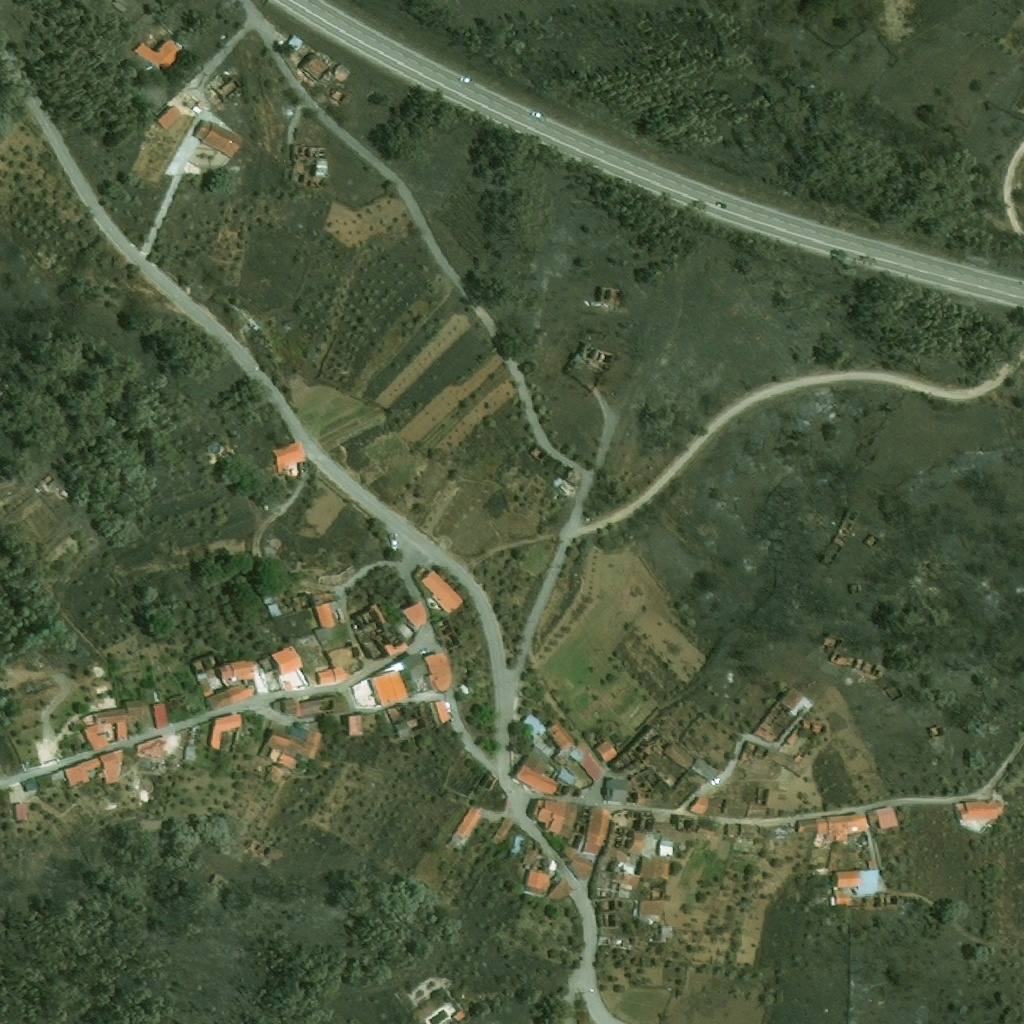0 no-damage: (515, 743, 585, 798), (82, 700, 143, 751), (263, 721, 324, 771), (525, 798, 578, 840), (317, 641, 365, 684), (132, 34, 184, 73), (421, 569, 465, 614), (193, 117, 241, 158), (815, 812, 868, 843), (832, 866, 879, 899), (446, 806, 481, 849), (204, 682, 255, 711), (368, 668, 409, 704), (568, 743, 604, 781), (310, 599, 340, 643), (135, 734, 170, 771), (207, 713, 242, 750), (63, 756, 102, 789), (423, 648, 451, 691), (270, 644, 304, 676), (98, 746, 124, 785), (632, 856, 671, 882), (270, 440, 305, 468), (401, 651, 430, 684), (546, 718, 576, 749), (954, 801, 1003, 819), (214, 659, 254, 681), (866, 804, 900, 829), (545, 877, 573, 904), (401, 599, 426, 628), (520, 712, 546, 739), (638, 899, 665, 925), (593, 738, 619, 763), (692, 757, 716, 782), (157, 104, 180, 128), (494, 816, 516, 840), (829, 887, 855, 907), (622, 862, 644, 885), (344, 714, 364, 737), (153, 702, 170, 728), (287, 33, 303, 52), (12, 803, 28, 821), (448, 1008, 466, 1023), (183, 744, 196, 761), (660, 925, 673, 942)
1 minor-damage: (724, 823, 762, 841)
2 major-damage: (560, 804, 612, 884), (637, 810, 699, 856), (296, 49, 337, 88), (777, 688, 813, 718), (603, 777, 639, 802), (703, 798, 747, 818), (429, 699, 452, 725), (687, 795, 709, 815)
3 destroyed: (611, 723, 697, 774), (352, 604, 411, 662), (737, 739, 811, 777), (587, 846, 629, 900), (606, 808, 647, 856), (289, 141, 331, 186), (521, 842, 553, 892), (752, 700, 789, 743), (205, 73, 243, 105), (576, 341, 616, 371), (188, 651, 227, 681), (32, 471, 63, 499), (745, 787, 771, 818), (279, 698, 324, 715), (852, 893, 893, 908), (801, 718, 831, 738), (599, 284, 622, 309), (861, 659, 885, 681), (556, 478, 580, 499), (291, 593, 313, 613), (31, 653, 52, 673), (829, 648, 852, 666), (257, 654, 277, 674), (929, 723, 949, 743), (862, 530, 882, 550), (529, 442, 549, 462), (329, 86, 349, 104), (596, 933, 618, 949), (386, 704, 409, 719), (180, 726, 199, 744), (394, 719, 412, 738), (418, 702, 430, 719), (812, 866, 827, 877), (847, 583, 860, 594)
